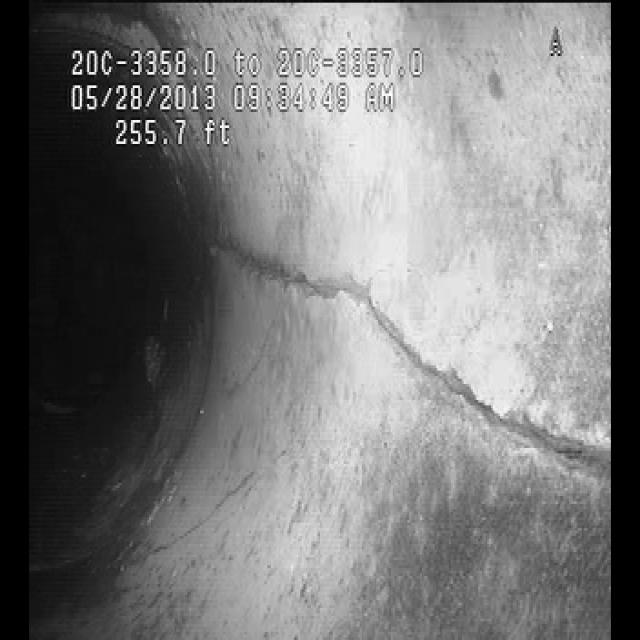Fracture: (222, 202, 540, 432)
